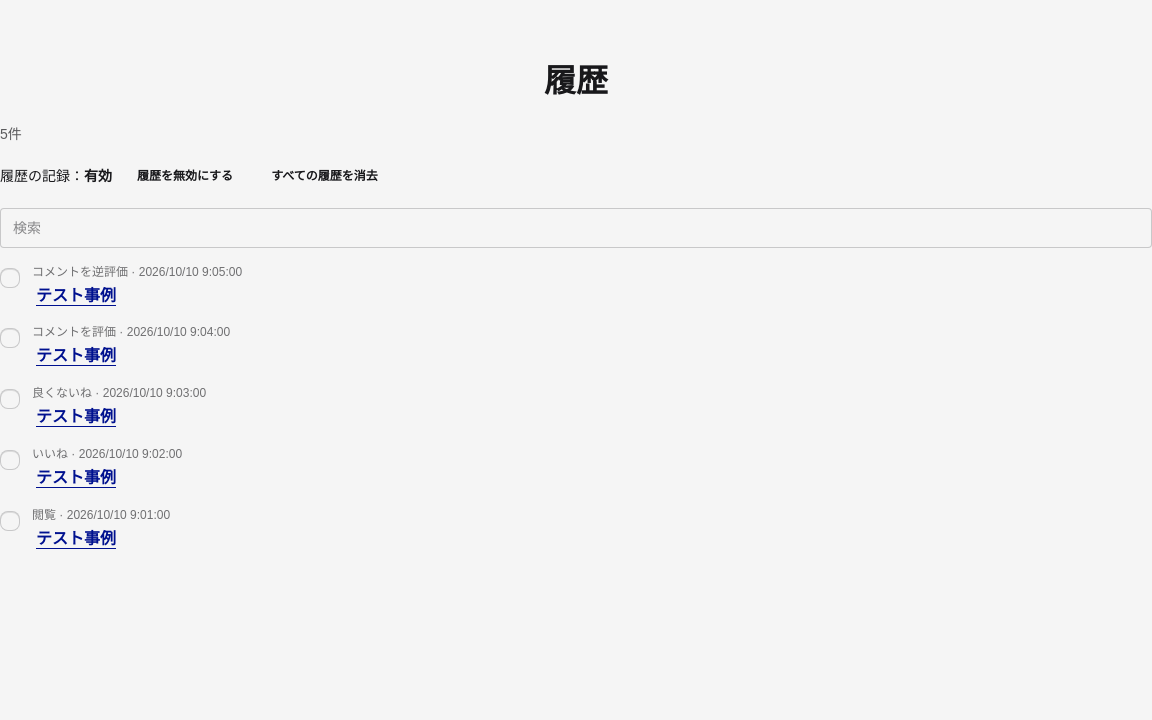
it: 履歴の表示と検索 › 消去失敗は確認内に表示して開いたまま保ち、再試行の成功後に閉じる
Click the checkbox named "履歴を選択（閲覧". click: (10, 521)
box: [0, 511, 20, 531]
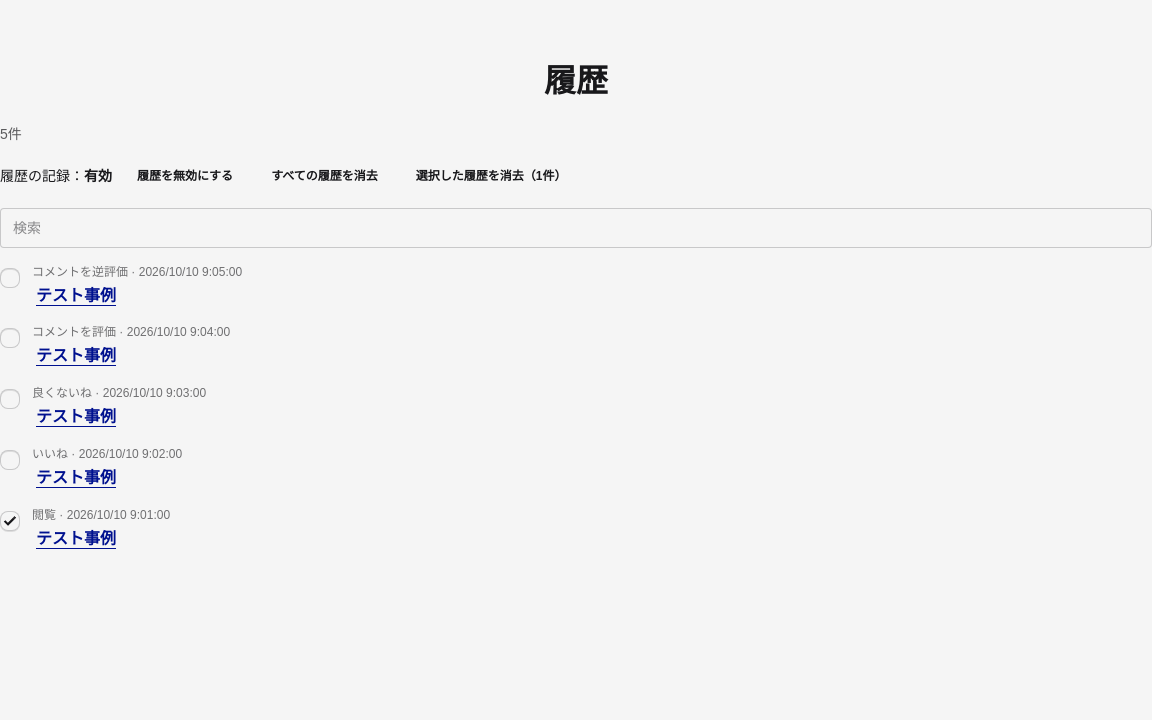
Click the button "選択した履歴を消去（1件）". click: (491, 176)
box: [403, 160, 580, 192]
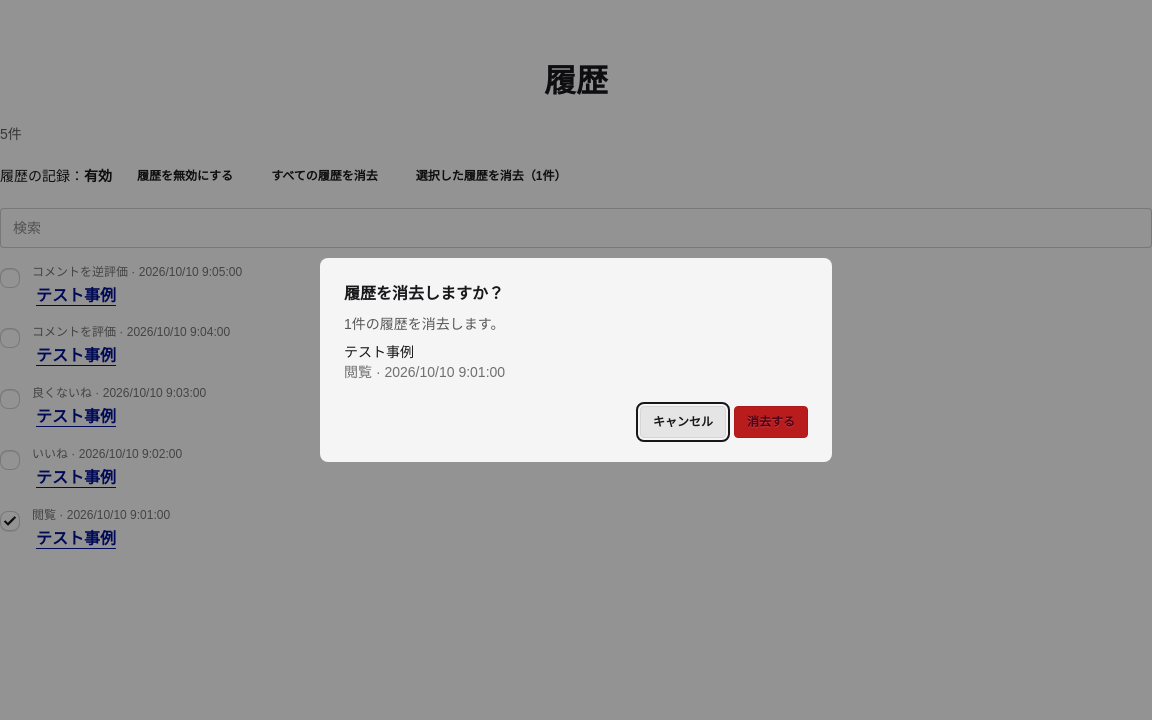
Click the button "消去する". click: (771, 422)
box: [734, 406, 808, 438]
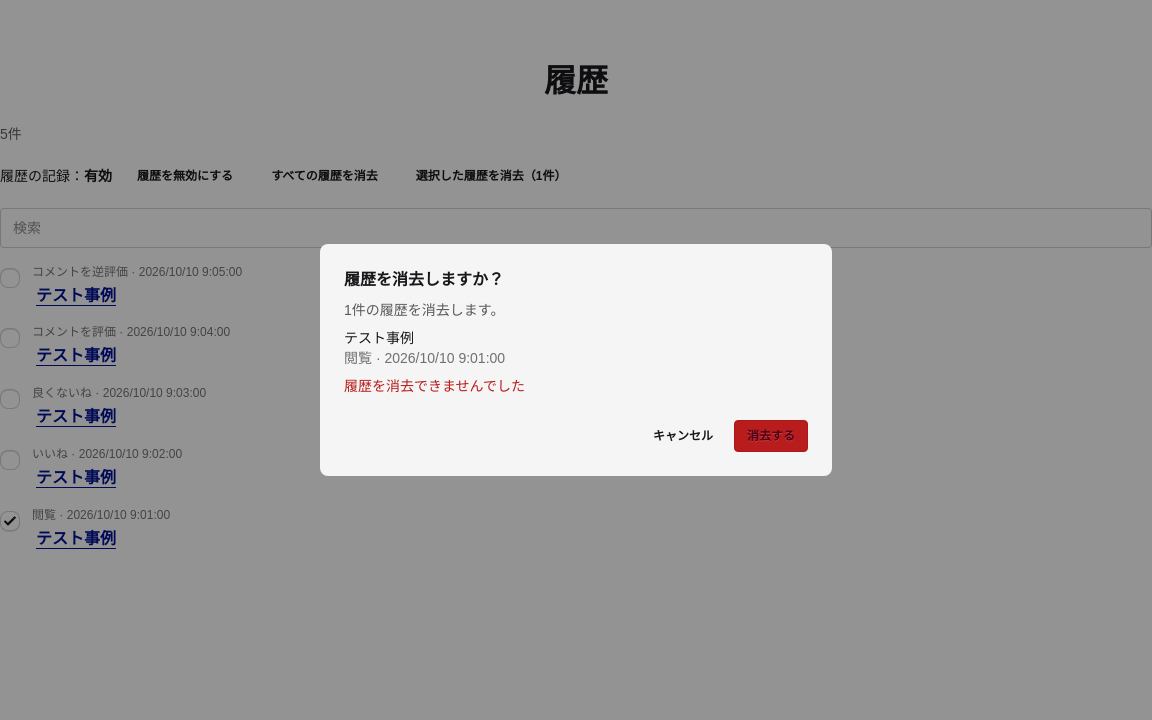
Check: the button "消去する" is enabled
Check: the button "キャンセル" is enabled, box [640, 420, 726, 452]
Check: the message reads "履歴を消去できませんでした", box [344, 378, 525, 394]
Click the button "消去する". click: (771, 436)
box: [734, 420, 808, 452]
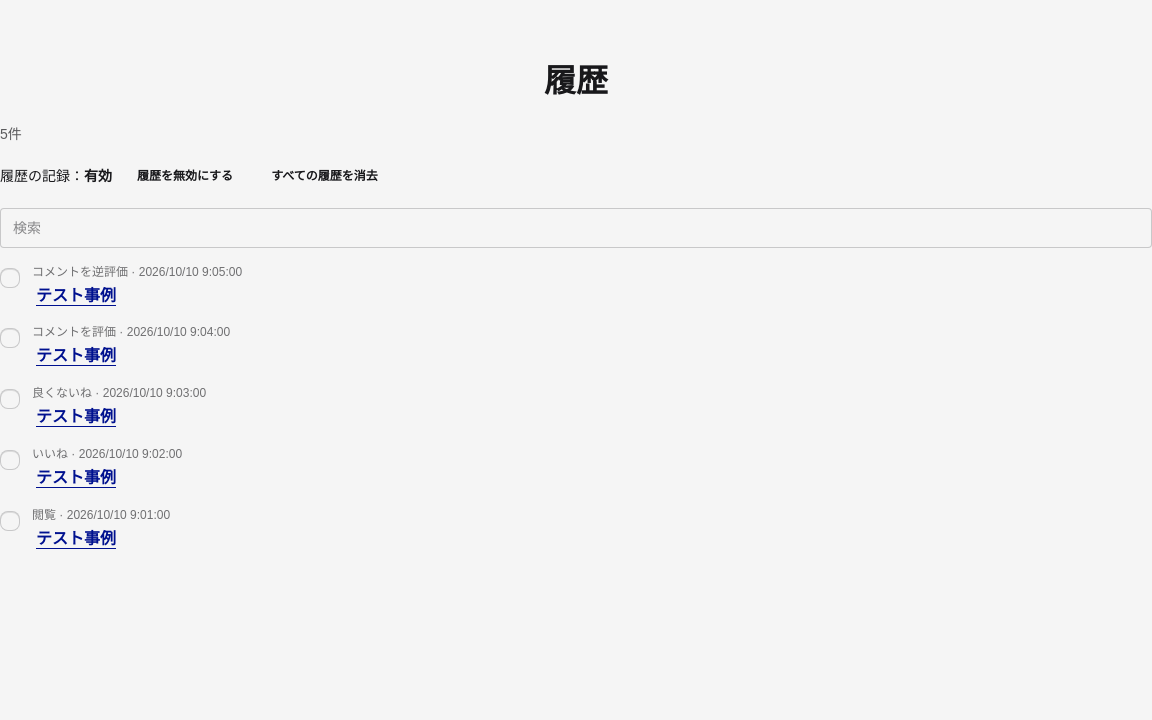
Check: the dialog is gone
